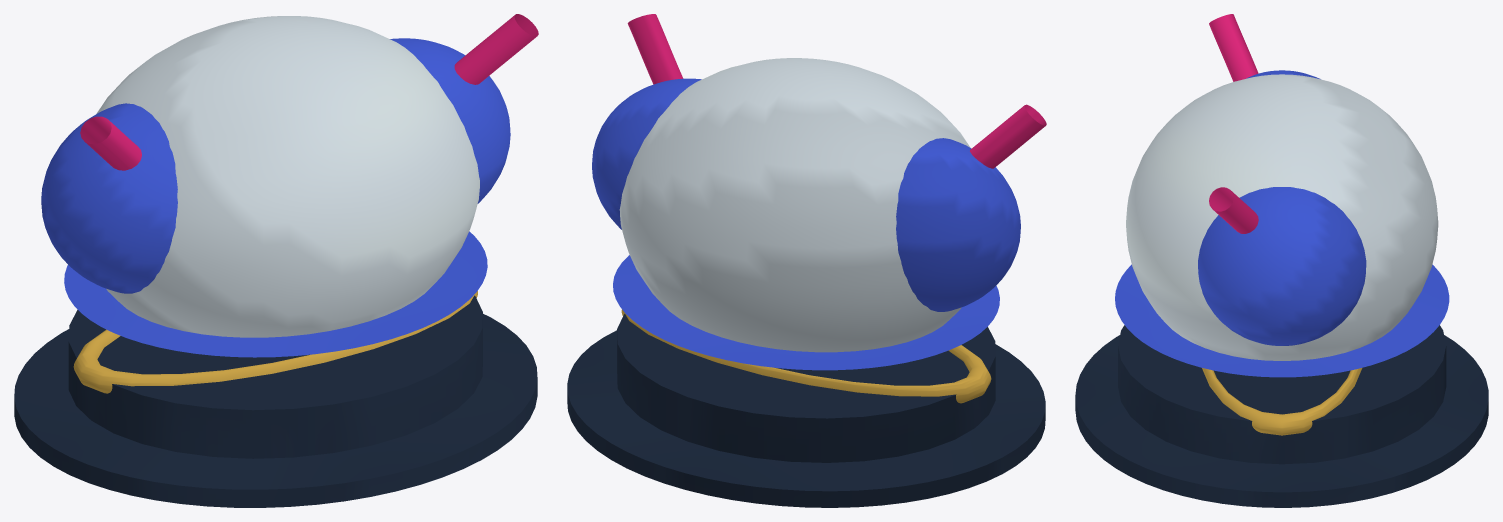
Rendered from 0185_人体图鉴_小肠.glb.
3 renders of one model, left to right at view 1: azimuth 30°, elevation 25°; view 2: azimuth 150°, elevation 25°; view 3: azimuth 270°, elevation 25°, orthographic. The views are drawn at different scales.
Visible parts, largest first — view 1: card_0185; view 2: card_0185; view 3: card_0185.
Part boxes in pixels (left/top/right/bottom): card_0185: left=14, top=14, right=538, bottom=507; card_0185: left=567, top=14, right=1046, bottom=507; card_0185: left=1075, top=14, right=1488, bottom=507.
Bounding box in the file's own units: 1.32 × 1 × 1.19.
